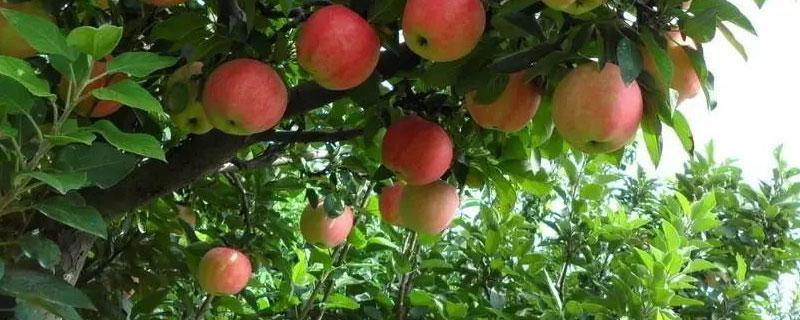apple: (549, 60, 643, 156), (296, 4, 382, 94), (202, 57, 290, 137), (401, 1, 488, 65), (378, 174, 460, 237), (301, 191, 354, 249), (198, 247, 252, 296)
